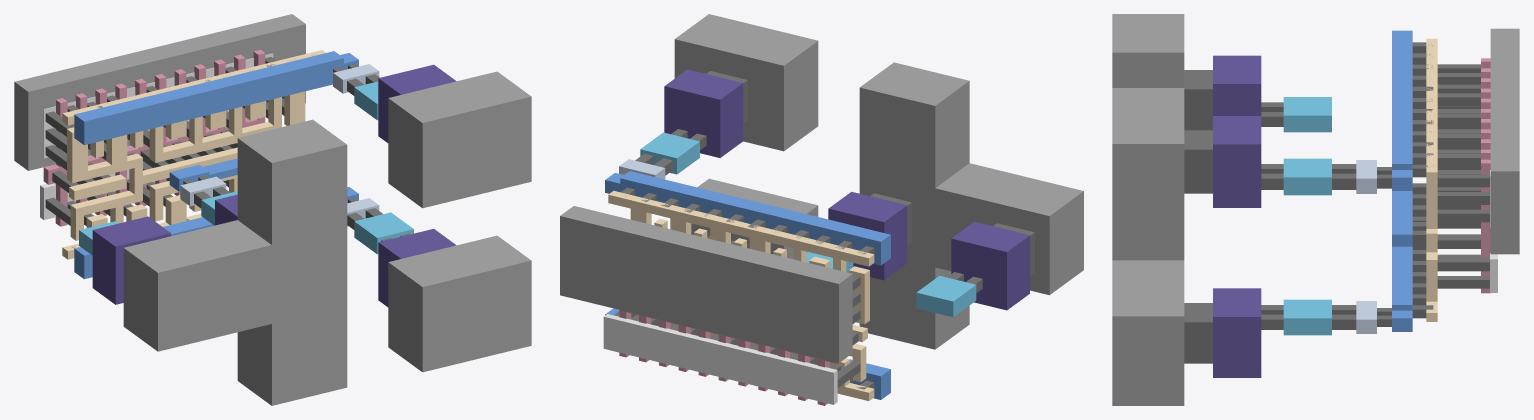
File: sky130_fd_sc_hd__probec_p_8.gds.gltf
3 renders of one model, left to right at view 1: azimuth 30°, elevation 25°; view 2: azimuth 150°, elevation 25°; view 3: azimuth 270°, elevation 25°, orthographic. The views are drawn at different scales.
Visible parts, largest first — view 1: sky130_fd_sc_hd__probec_p_8_met5, sky130_fd_sc_hd__probec_p_8_li1, sky130_fd_sc_hd__probec_p_8_nwell, sky130_fd_sc_hd__probec_p_8_met1, sky130_fd_sc_hd__probec_p_8_met4, sky130_fd_sc_hd__probec_p_8_licon, sky130_fd_sc_hd__probec_p_8_poly, sky130_fd_sc_hd__probec_p_8_met3, sky130_fd_sc_hd__probec_p_8_met2, sky130_fd_sc_hd__probec_p_8_diff, sky130_fd_sc_hd__probec_p_8_via2; view 2: sky130_fd_sc_hd__probec_p_8_met5, sky130_fd_sc_hd__probec_p_8_nwell, sky130_fd_sc_hd__probec_p_8_met4, sky130_fd_sc_hd__probec_p_8_diff, sky130_fd_sc_hd__probec_p_8_li1, sky130_fd_sc_hd__probec_p_8_met1, sky130_fd_sc_hd__probec_p_8_met3, sky130_fd_sc_hd__probec_p_8_poly, sky130_fd_sc_hd__probec_p_8_licon, sky130_fd_sc_hd__probec_p_8_mcon, sky130_fd_sc_hd__probec_p_8_via4, sky130_fd_sc_hd__probec_p_8_met2 (+1 smaller); view 3: sky130_fd_sc_hd__probec_p_8_met5, sky130_fd_sc_hd__probec_p_8_met4, sky130_fd_sc_hd__probec_p_8_licon, sky130_fd_sc_hd__probec_p_8_nwell, sky130_fd_sc_hd__probec_p_8_met1, sky130_fd_sc_hd__probec_p_8_met3, sky130_fd_sc_hd__probec_p_8_via4, sky130_fd_sc_hd__probec_p_8_mcon, sky130_fd_sc_hd__probec_p_8_li1, sky130_fd_sc_hd__probec_p_8_via3, sky130_fd_sc_hd__probec_p_8_poly, sky130_fd_sc_hd__probec_p_8_met2 (+3 smaller).
Boxes of the visible parts, x1=… form: sky130_fd_sc_hd__probec_p_8_met5: x1=123, y1=71, x2=531, y2=405; sky130_fd_sc_hd__probec_p_8_li1: x1=62, y1=50, x2=325, y2=259; sky130_fd_sc_hd__probec_p_8_nwell: x1=14, y1=14, x2=305, y2=170; sky130_fd_sc_hd__probec_p_8_met1: x1=74, y1=51, x2=358, y2=279; sky130_fd_sc_hd__probec_p_8_met4: x1=92, y1=64, x2=456, y2=307; sky130_fd_sc_hd__probec_p_8_licon: x1=45, y1=57, x2=284, y2=225; sky130_fd_sc_hd__probec_p_8_poly: x1=43, y1=50, x2=265, y2=226; sky130_fd_sc_hd__probec_p_8_met3: x1=79, y1=81, x2=413, y2=255; sky130_fd_sc_hd__probec_p_8_met2: x1=180, y1=64, x2=379, y2=226; sky130_fd_sc_hd__probec_p_8_diff: x1=40, y1=53, x2=273, y2=219; sky130_fd_sc_hd__probec_p_8_via2: x1=194, y1=74, x2=382, y2=229; sky130_fd_sc_hd__probec_p_8_met5: x1=674, y1=14, x2=1083, y2=349; sky130_fd_sc_hd__probec_p_8_nwell: x1=560, y1=206, x2=852, y2=363; sky130_fd_sc_hd__probec_p_8_met4: x1=664, y1=69, x2=1029, y2=310; sky130_fd_sc_hd__probec_p_8_diff: x1=603, y1=314, x2=837, y2=404; sky130_fd_sc_hd__probec_p_8_li1: x1=608, y1=190, x2=874, y2=400; sky130_fd_sc_hd__probec_p_8_met1: x1=605, y1=171, x2=890, y2=399; sky130_fd_sc_hd__probec_p_8_met3: x1=640, y1=132, x2=976, y2=317; sky130_fd_sc_hd__probec_p_8_poly: x1=619, y1=310, x2=837, y2=405; sky130_fd_sc_hd__probec_p_8_licon: x1=614, y1=220, x2=860, y2=387; sky130_fd_sc_hd__probec_p_8_mcon: x1=621, y1=187, x2=874, y2=389; sky130_fd_sc_hd__probec_p_8_via4: x1=706, y1=71, x2=1034, y2=275; sky130_fd_sc_hd__probec_p_8_met2: x1=619, y1=159, x2=665, y2=179; sky130_fd_sc_hd__probec_p_8_met5: x1=1112, y1=14, x2=1184, y2=405; sky130_fd_sc_hd__probec_p_8_met4: x1=1213, y1=55, x2=1261, y2=377; sky130_fd_sc_hd__probec_p_8_licon: x1=1437, y1=64, x2=1489, y2=288; sky130_fd_sc_hd__probec_p_8_nwell: x1=1490, y1=28, x2=1519, y2=254; sky130_fd_sc_hd__probec_p_8_met1: x1=1392, y1=30, x2=1412, y2=331; sky130_fd_sc_hd__probec_p_8_met3: x1=1283, y1=97, x2=1331, y2=335; sky130_fd_sc_hd__probec_p_8_via4: x1=1184, y1=70, x2=1212, y2=363; sky130_fd_sc_hd__probec_p_8_mcon: x1=1412, y1=42, x2=1433, y2=318; sky130_fd_sc_hd__probec_p_8_li1: x1=1426, y1=38, x2=1437, y2=321; sky130_fd_sc_hd__probec_p_8_via3: x1=1261, y1=102, x2=1283, y2=329; sky130_fd_sc_hd__probec_p_8_poly: x1=1481, y1=58, x2=1490, y2=293; sky130_fd_sc_hd__probec_p_8_met2: x1=1356, y1=160, x2=1376, y2=333.
Bounding box in the file's own units: 7.93 × 5.06 × 7.13.
